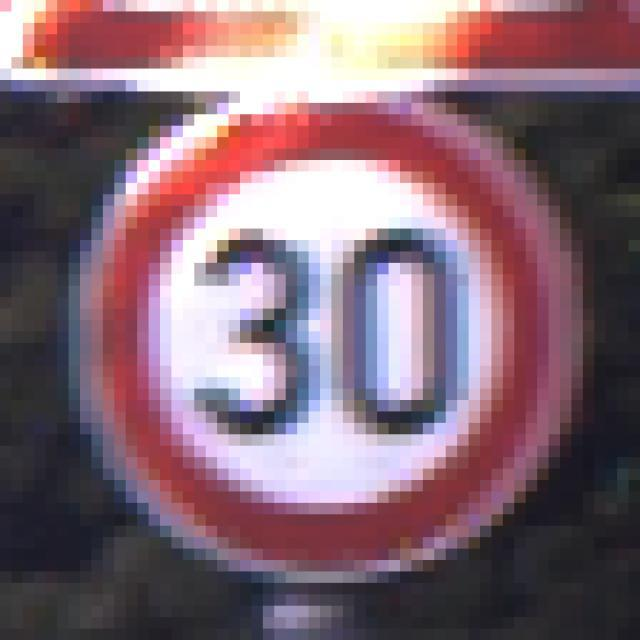Speed Limit -30-: (62, 63, 578, 566)
